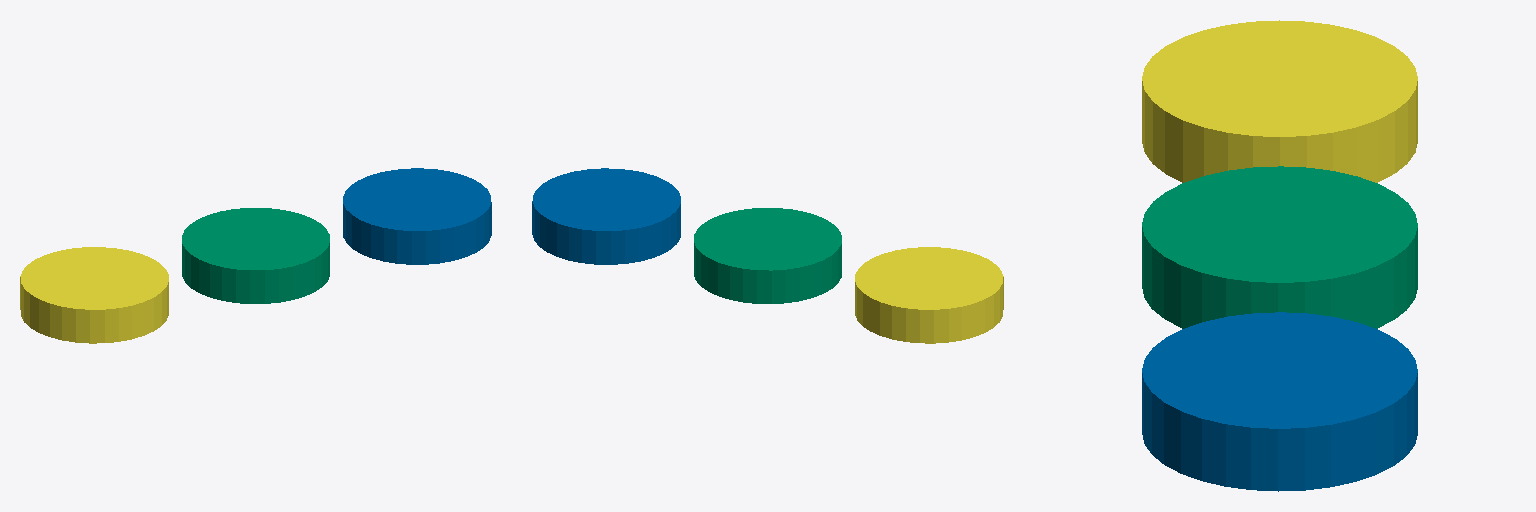
URDF robot description (avatar_gripper_3_model):
<?xml version="1.0" ?>
<!-- =================================================================================== -->
<!-- |    This document was autogenerated by xacro from [local-path]/avatar_ws/src/avatar_simulation/avatar_gripper_description/urdf/avatar_gripper_3f_example.xacro | -->
<!-- |    EDITING THIS FILE BY HAND IS NOT RECOMMENDED                                 | -->
<!-- =================================================================================== -->
<robot name="avatar_gripper_3_model">
  <link name="left_thumb_base">
    <inertial>
      <mass value="0.5"/>
      <inertia ixx="4E-5" ixy="0.0" ixz="0.0" iyy="4E-5" iyz="0.0" izz="4E-5"/>
    </inertial>
    <visual>
      <origin rpy="0 0   0" xyz="0 0 0"/>
      <geometry>
        <mesh filename="../meshes/right/thumb_base_extra.obj"/>
      </geometry>
      <material name="">
        <color rgba="0.9 0.9 0.9 1"/>
      </material>
    </visual>
    <collision>
      <origin rpy="0 0 0" xyz="0 0 -0.02"/>
      <geometry>
        <cylinder length="0.036" radius="0.01"/>
      </geometry>
    </collision>
    <collision>
      <origin xyz="0 0 -0.0020000000000000018"/>
      <geometry>
        <sphere radius="0.01"/>
      </geometry>
    </collision>
    <collision>
      <origin xyz="0 0 -0.038"/>
      <geometry>
        <sphere radius="0.01"/>
      </geometry>
    </collision>
  </link>
  <link name="left_thumb_knuckle">
    <inertial>
      <mass value="0.5"/>
      <inertia ixx="4E-5" ixy="0.0" ixz="0.0" iyy="4E-5" iyz="0.0" izz="4E-5"/>
    </inertial>
    <visual>
      <origin rpy="0 0 0" xyz="0 0 0"/>
      <geometry>
        <mesh filename="../meshes/right/thumb_knuckle.obj"/>
      </geometry>
      <material name="">
        <color rgba="0.9 0.9 0.9 1"/>
      </material>
    </visual>
    <collision>
      <origin rpy="0 1.5707963267948966 0" xyz="0.0235 0 0"/>
      <geometry>
        <cylinder length="0.047" radius="0.009"/>
      </geometry>
    </collision>
    <collision>
      <origin xyz="0.047 0 0"/>
      <geometry>
        <sphere radius="0.009"/>
      </geometry>
    </collision>
    <collision>
      <origin xyz="0.0 0 0"/>
      <geometry>
        <sphere radius="0.009"/>
      </geometry>
    </collision>
  </link>
  <joint name="left_thumb_knuckle_joint" type="revolute">
    <origin rpy="0 3.064 0" xyz="0 0 0"/>
    <parent link="left_thumb_base"/>
    <child link="left_thumb_knuckle"/>
    <axis xyz="0 1 0"/>
    <limit effort="1000" lower="-1.0" upper="0.4" velocity="2.0"/>
  </joint>
  <link name="left_thumb_finger">
    <inertial>
      <mass value="0.5"/>
      <inertia ixx="4E-5" ixy="0.0" ixz="0.0" iyy="4E-5" iyz="0.0" izz="4E-5"/>
    </inertial>
    <visual>
      <origin rpy="0 0 0" xyz="0 0 0"/>
      <geometry>
        <mesh filename="../meshes/right/thumb_fingertip.obj"/>
      </geometry>
      <material name="">
        <color rgba="0.9 0.9 0.9 1"/>
      </material>
    </visual>
    <collision>
      <origin rpy="0 1.5707963267948966 0" xyz="0.02 0 0"/>
      <geometry>
        <cylinder length="0.041" radius="0.008"/>
      </geometry>
    </collision>
    <collision>
      <origin xyz="0.0405 0 0"/>
      <geometry>
        <sphere radius="0.008"/>
      </geometry>
    </collision>
    <collision>
      <origin xyz="-0.0005000000000000004 0 0"/>
      <geometry>
        <sphere radius="0.008"/>
      </geometry>
    </collision>
  </link>
  <joint name="left_thumb_finger_joint" type="revolute">
    <!-- <origin xyz="0.04568 0 0.01106" rpy="0 0.57 0"/> -->
    <origin rpy="0 -0.12813170079773184 0" xyz="0.047 0 0"/>
    <parent link="left_thumb_knuckle"/>
    <child link="left_thumb_finger"/>
    <axis xyz="0 1 0"/>
    <limit effort="1000" lower="-0.8" upper="0" velocity="2.0"/>
  </joint>
  <link name="left_thumb_swivel_link">
    <inertial>
      <mass value="0.1"/>
      <inertia ixx="4E-5" ixy="0.0" ixz="0.0" iyy="4E-5" iyz="0.0" izz="4E-5"/>
    </inertial>
    <visual>
      <origin rpy="0 0 0" xyz="0 0 0"/>
      <geometry>
        <mesh filename="../meshes/right/thumb_swivel_link.obj"/>
      </geometry>
      <material name="">
        <color rgba="0.9 0.9 0.9 1"/>
      </material>
    </visual>
  </link>
  <joint name="left_thumb_swivel_joint" type="revolute">
    <origin rpy="0 0 0" xyz="0 0 0.0173"/>
    <parent link="left_index_base_connector"/>
    <child link="left_thumb_swivel_link"/>
    <axis xyz="0 0 1"/>
    <limit effort="1000" lower="0" upper="1.7" velocity="2.0"/>
  </joint>
  <joint name="left_thumb_base_swivel_joint" type="fixed">
    <origin rpy="0 -0.5235987755982988 0" xyz="-0.03742 0 0.05089"/>
    <parent link="left_thumb_swivel_link"/>
    <child link="left_thumb_base"/>
  </joint>
  <link name="left_index_base_connector">
    <inertial>
      <mass value="0.02"/>
      <inertia ixx="4E-5" ixy="0.0" ixz="0.0" iyy="4E-5" iyz="0.0" izz="4E-5"/>
    </inertial>
    <visual>
      <origin rpy="0 0 0" xyz="0 0 0"/>
      <geometry>
        <mesh filename="../meshes/right/index_base_connector.obj"/>
      </geometry>
      <material name="">
        <color rgba="0.9 0.9 0.9 1"/>
      </material>
    </visual>
    <collision>
      <origin rpy="0 0 0" xyz="-0.008 0 0.013"/>
      <geometry>
        <sphere radius="0.015"/>
      </geometry>
    </collision>
    <collision>
      <origin rpy="0 0 0" xyz="0.008 0 0.013"/>
      <geometry>
        <sphere radius="0.015"/>
      </geometry>
    </collision>
  </link>
  <link name="left_index_knuckle">
    <inertial>
      <mass value="0.5"/>
      <inertia ixx="4E-5" ixy="0.0" ixz="0.0" iyy="4E-5" iyz="0.0" izz="4E-5"/>
    </inertial>
    <visual>
      <origin rpy="0 0 0" xyz="0 0 0"/>
      <geometry>
        <mesh filename="../meshes/right/index_knuckle.obj"/>
      </geometry>
      <material name="">
        <color rgba="0.9 0.9 0.9 1"/>
      </material>
    </visual>
    <collision>
      <origin rpy="0 1.5707963267948966 0" xyz="0.02 0 0"/>
      <geometry>
        <cylinder length="0.04" radius="0.01"/>
      </geometry>
    </collision>
    <collision>
      <origin xyz="0.04 0 0"/>
      <geometry>
        <sphere radius="0.01"/>
      </geometry>
    </collision>
    <collision>
      <origin xyz="0.0 0 0"/>
      <geometry>
        <sphere radius="0.01"/>
      </geometry>
    </collision>
  </link>
  <joint name="left_index_knuckle_joint" type="revolute">
    <origin rpy="-2.3053 1.3087 -2.2008" xyz="-0.021564878 0.008545 -0.0024358"/>
    <parent link="left_index_base_connector"/>
    <child link="left_index_knuckle"/>
    <axis xyz="0 0 1"/>
    <limit effort="1000" lower="-0.8" upper="0" velocity="2.0"/>
  </joint>
  <link name="left_index_fingertip">
    <inertial>
      <mass value="0.5"/>
      <inertia ixx="4E-5" ixy="0.0" ixz="0.0" iyy="4E-5" iyz="0.0" izz="4E-5"/>
    </inertial>
    <visual>
      <origin rpy="0 0 0" xyz="0 0 0"/>
      <geometry>
        <mesh filename="../meshes/right/index_fingertip.obj"/>
      </geometry>
      <material name="">
        <color rgba="0.9 0.9 0.9 1"/>
      </material>
    </visual>
    <collision>
      <origin rpy="0 1.5707963267948966 0" xyz="0.013 0 0"/>
      <geometry>
        <cylinder length="0.026" radius="0.008"/>
      </geometry>
    </collision>
    <collision>
      <origin xyz="0.026 0 0"/>
      <geometry>
        <sphere radius="0.008"/>
      </geometry>
    </collision>
    <collision>
      <origin xyz="0.0 0 0"/>
      <geometry>
        <sphere radius="0.008"/>
      </geometry>
    </collision>
    <collision>
      <origin rpy="0 1.5707963267948966 -0.67" xyz="0.038 -0.009 0"/>
      <geometry>
        <cylinder length="0.023" radius="0.008"/>
      </geometry>
    </collision>
    <collision>
      <origin xyz="0.04701394915762976 -0.016141338850920436 0"/>
      <geometry>
        <sphere radius="0.008"/>
      </geometry>
    </collision>
    <collision>
      <origin xyz="0.028986050842370235 -0.001858661149079563 0"/>
      <geometry>
        <sphere radius="0.008"/>
      </geometry>
    </collision>
  </link>
  <joint name="left_index_fingertip_joint" type="revolute">
    <origin rpy="0 0 0.313" xyz="0.04499 0 0"/>
    <parent link="left_index_knuckle"/>
    <child link="left_index_fingertip"/>
    <axis xyz="0 0 1"/>
    <limit effort="1000" lower="-0.8" upper="0" velocity="2.0"/>
  </joint>
  <link name="left_middle_knuckle">
    <inertial>
      <mass value="0.5"/>
      <inertia ixx="4E-5" ixy="0.0" ixz="0.0" iyy="4E-5" iyz="0.0" izz="4E-5"/>
    </inertial>
    <visual>
      <origin rpy="0 0 0" xyz="0 0 0"/>
      <geometry>
        <mesh filename="../meshes/right/index_knuckle.obj"/>
      </geometry>
      <material name="">
        <color rgba="0.9 0.9 0.9 1"/>
      </material>
    </visual>
    <collision>
      <origin rpy="0 1.5707963267948966 0" xyz="0.02 0 0"/>
      <geometry>
        <cylinder length="0.04" radius="0.01"/>
      </geometry>
    </collision>
    <collision>
      <origin xyz="0.04 0 0"/>
      <geometry>
        <sphere radius="0.01"/>
      </geometry>
    </collision>
    <collision>
      <origin xyz="0.0 0 0"/>
      <geometry>
        <sphere radius="0.01"/>
      </geometry>
    </collision>
  </link>
  <joint name="left_middle_knuckle_joint" type="revolute">
    <origin rpy="-0.8363 1.3087 -0.9408" xyz="0.02156 0.008545 -0.0024358"/>
    <parent link="left_index_base_connector"/>
    <child link="left_middle_knuckle"/>
    <axis xyz="0 0 1"/>
    <limit effort="1000" lower="-0.8" upper="0" velocity="2.0"/>
  </joint>
  <link name="left_middle_fingertip">
    <inertial>
      <mass value="0.5"/>
      <inertia ixx="4E-5" ixy="0.0" ixz="0.0" iyy="4E-5" iyz="0.0" izz="4E-5"/>
    </inertial>
    <visual>
      <origin rpy="0 0 0" xyz="0 0 0"/>
      <geometry>
        <mesh filename="../meshes/right/index_fingertip.obj"/>
      </geometry>
      <material name="">
        <color rgba="0.9 0.9 0.9 1"/>
      </material>
    </visual>
    <collision>
      <origin rpy="0 1.5707963267948966 0" xyz="0.013 0 0"/>
      <geometry>
        <cylinder length="0.026" radius="0.008"/>
      </geometry>
    </collision>
    <collision>
      <origin xyz="0.026 0 0"/>
      <geometry>
        <sphere radius="0.008"/>
      </geometry>
    </collision>
    <collision>
      <origin xyz="0.0 0 0"/>
      <geometry>
        <sphere radius="0.008"/>
      </geometry>
    </collision>
    <collision>
      <origin rpy="0 1.5707963267948966 -0.67" xyz="0.038 -0.009 0"/>
      <geometry>
        <cylinder length="0.023" radius="0.008"/>
      </geometry>
    </collision>
    <collision>
      <origin xyz="0.04701394915762976 -0.016141338850920436 0"/>
      <geometry>
        <sphere radius="0.008"/>
      </geometry>
    </collision>
    <collision>
      <origin xyz="0.028986050842370235 -0.001858661149079563 0"/>
      <geometry>
        <sphere radius="0.008"/>
      </geometry>
    </collision>
  </link>
  <joint name="left_middle_fingertip_joint" type="revolute">
    <origin rpy="0 0 0.313" xyz="0.04499 0 0"/>
    <parent link="left_middle_knuckle"/>
    <child link="left_middle_fingertip"/>
    <axis xyz="0 0 1"/>
    <limit effort="1000" lower="-0.8" upper="0" velocity="2.0"/>
  </joint>
  <link name="left_gripper_base">
    <inertial>
      <mass value="2.0"/>
      <inertia ixx="7.11E-3" ixy="0.0" ixz="0.0" iyy="7.11E-3" iyz="0.0" izz="7.11E-3"/>
    </inertial>
    <visual>
      <origin rpy="0 0 0" xyz="0 0 0"/>
      <geometry>
        <mesh filename="../meshes/right/gripper_base.obj"/>
      </geometry>
      <material name="">
        <color rgba="0.9 0.9 0.7 1"/>
      </material>
    </visual>
    <!-- <collision>
        <origin xyz="0 0 -0.03" rpy="0 0 0"/>
        <geometry>
          <box size="0.1 0.1 0.06"/>
        </geometry>
      </collision> -->
  </link>
  <joint name="left_gripper_base_joint" type="fixed">
    <origin rpy="1.57 0 0" xyz="0.00736 0.139 -0.066017"/>
    <parent link="left_gripper_base"/>
    <child link="left_index_base_connector"/>
  </joint>
  <link name="left_thumb_flex_motor">
    <inertial>
      <mass value="0.25"/>
      <inertia ixx="1.463E-04" ixy="0" ixz="0" iyy="1.463E-04" iyz="0" izz="1.463E-04"/>
    </inertial>
    <visual>
      <origin rpy="0 0 0" xyz="0 0 0"/>
      <geometry>
        <cylinder length="0.01" radius="0.02"/>
      </geometry>
    </visual>
  </link>
  <joint name="left_thumb_flex_motor_joint" type="revolute">
    <origin rpy="0 0 0" xyz="-0.05 0.0 0.0"/>
    <parent link="left_gripper_base"/>
    <child link="left_thumb_flex_motor"/>
    <axis xyz="0 0 1"/>
    <limit effort="1000" lower="-2.3" upper="-0.08" velocity="2.0"/>
  </joint>
  <link name="left_thumb_swivel_motor">
    <inertial>
      <mass value="0.25"/>
      <inertia ixx="1.463E-04" ixy="0" ixz="0" iyy="1.463E-04" iyz="0" izz="1.463E-04"/>
    </inertial>
    <visual>
      <origin rpy="0 0 0" xyz="0 0 0"/>
      <geometry>
        <cylinder length="0.01" radius="0.02"/>
      </geometry>
    </visual>
  </link>
  <joint name="left_thumb_swivel_motor_joint" type="revolute">
    <origin rpy="0 0 0" xyz="-0.1 0.0 0.0"/>
    <parent link="left_gripper_base"/>
    <child link="left_thumb_swivel_motor"/>
    <axis xyz="0 0 1"/>
    <limit effort="1000" lower="-2.3" upper="-0.05" velocity="2.0"/>
  </joint>
  <link name="left_index_flex_motor">
    <inertial>
      <mass value="0.25"/>
      <inertia ixx="1.463E-04" ixy="0" ixz="0" iyy="1.463E-04" iyz="0" izz="1.463E-04"/>
    </inertial>
    <visual>
      <origin rpy="0 0 0" xyz="0 0 0"/>
      <geometry>
        <cylinder length="0.01" radius="0.02"/>
      </geometry>
    </visual>
  </link>
  <joint name="left_index_flex_motor_joint" type="revolute">
    <origin rpy="0 0 0" xyz="0.0 0.0 0.0"/>
    <parent link="left_gripper_base"/>
    <child link="left_index_flex_motor"/>
    <axis xyz="0 0 1"/>
    <limit effort="1000" lower="-2.3" upper="-0.08" velocity="2.0"/>
  </joint>
  <transmission name="left_thumb_knuckle_joint_transmission">
    <type>transmission_interface/SimpleTransmission</type>
    <joint name="left_thumb_knuckle_joint">
      <hardwareInterface>PositionJointInterface</hardwareInterface>
    </joint>
    <actuator name="left_thumb_knuckle_joint_actuator">
      <hardwareInterface>PositionJointInterface</hardwareInterface>
      <mechanicalReduction>1</mechanicalReduction>
    </actuator>
  </transmission>
  <transmission name="left_thumb_finger_joint_transmission">
    <type>transmission_interface/SimpleTransmission</type>
    <joint name="left_thumb_finger_joint">
      <hardwareInterface>PositionJointInterface</hardwareInterface>
    </joint>
    <actuator name="left_thumb_finger_joint_actuator">
      <hardwareInterface>PositionJointInterface</hardwareInterface>
      <mechanicalReduction>1</mechanicalReduction>
    </actuator>
  </transmission>
  <transmission name="left_thumb_swivel_joint_transmission">
    <type>transmission_interface/SimpleTransmission</type>
    <joint name="left_thumb_swivel_joint">
      <hardwareInterface>PositionJointInterface</hardwareInterface>
    </joint>
    <actuator name="left_thumb_swivel_joint_actuator">
      <hardwareInterface>PositionJointInterface</hardwareInterface>
      <mechanicalReduction>1</mechanicalReduction>
    </actuator>
  </transmission>
  <transmission name="left_index_knuckle_joint_transmission">
    <type>transmission_interface/SimpleTransmission</type>
    <joint name="left_index_knuckle_joint">
      <hardwareInterface>PositionJointInterface</hardwareInterface>
    </joint>
    <actuator name="left_index_knuckle_joint_actuator">
      <hardwareInterface>PositionJointInterface</hardwareInterface>
      <mechanicalReduction>1</mechanicalReduction>
    </actuator>
  </transmission>
  <transmission name="left_index_fingertip_joint_transmission">
    <type>transmission_interface/SimpleTransmission</type>
    <joint name="left_index_fingertip_joint">
      <hardwareInterface>PositionJointInterface</hardwareInterface>
    </joint>
    <actuator name="left_index_fingertip_joint_actuator">
      <hardwareInterface>PositionJointInterface</hardwareInterface>
      <mechanicalReduction>1</mechanicalReduction>
    </actuator>
  </transmission>
  <transmission name="left_middle_knuckle_joint_transmission">
    <type>transmission_interface/SimpleTransmission</type>
    <joint name="left_middle_knuckle_joint">
      <hardwareInterface>PositionJointInterface</hardwareInterface>
    </joint>
    <actuator name="left_middle_knuckle_joint_actuator">
      <hardwareInterface>PositionJointInterface</hardwareInterface>
      <mechanicalReduction>1</mechanicalReduction>
    </actuator>
  </transmission>
  <transmission name="left_middle_fingertip_joint_transmission">
    <type>transmission_interface/SimpleTransmission</type>
    <joint name="left_middle_fingertip_joint">
      <hardwareInterface>PositionJointInterface</hardwareInterface>
    </joint>
    <actuator name="left_middle_fingertip_joint_actuator">
      <hardwareInterface>PositionJointInterface</hardwareInterface>
      <mechanicalReduction>1</mechanicalReduction>
    </actuator>
  </transmission>
  <transmission name="left_thumb_flex_motor_joint_transmission">
    <type>transmission_interface/SimpleTransmission</type>
    <joint name="left_thumb_flex_motor_joint">
      <hardwareInterface>PositionJointInterface</hardwareInterface>
    </joint>
    <actuator name="left_thumb_flex_motor_joint_actuator">
      <hardwareInterface>PositionJointInterface</hardwareInterface>
      <mechanicalReduction>1</mechanicalReduction>
    </actuator>
  </transmission>
  <transmission name="left_thumb_swivel_motor_joint_transmission">
    <type>transmission_interface/SimpleTransmission</type>
    <joint name="left_thumb_swivel_motor_joint">
      <hardwareInterface>PositionJointInterface</hardwareInterface>
    </joint>
    <actuator name="left_thumb_swivel_motor_joint_actuator">
      <hardwareInterface>PositionJointInterface</hardwareInterface>
      <mechanicalReduction>1</mechanicalReduction>
    </actuator>
  </transmission>
  <transmission name="left_index_flex_motor_joint_transmission">
    <type>transmission_interface/SimpleTransmission</type>
    <joint name="left_index_flex_motor_joint">
      <hardwareInterface>PositionJointInterface</hardwareInterface>
    </joint>
    <actuator name="left_index_flex_motor_joint_actuator">
      <hardwareInterface>PositionJointInterface</hardwareInterface>
      <mechanicalReduction>1</mechanicalReduction>
    </actuator>
  </transmission>
</robot>

--- Render facts (derived) ---
3 views of the same robot in one strip: view 1: azimuth 30°, elevation 25°; view 2: azimuth 150°, elevation 25°; view 3: azimuth 270°, elevation 25° (orthographic).
Robot: avatar_gripper_3_model — 13 links, 12 joints (10 revolute, 2 fixed); root link left_gripper_base; default pose: all joints at 0 but 3 set to mid-range because 0 is outside their limits (left_thumb_flex_motor_joint = -1.19, left_thumb_swivel_motor_joint = -1.18, left_index_flex_motor_joint = -1.19).
Visible links, largest first — view 1: left_index_flex_motor, left_thumb_swivel_motor, left_thumb_flex_motor; view 2: left_thumb_swivel_motor, left_index_flex_motor, left_thumb_flex_motor; view 3: left_index_flex_motor, left_thumb_swivel_motor, left_thumb_flex_motor.
Boxes of the visible links, x1,y1,x2,y2 form: left_index_flex_motor: (343,168,491,264); left_thumb_swivel_motor: (20,247,168,343); left_thumb_flex_motor: (182,208,329,303); left_thumb_swivel_motor: (855,247,1003,343); left_index_flex_motor: (532,168,680,264); left_thumb_flex_motor: (694,208,841,303); left_index_flex_motor: (1142,312,1417,491); left_thumb_swivel_motor: (1142,20,1417,182); left_thumb_flex_motor: (1142,166,1417,328).
Bounding box of the posed robot: 0.14 × 0.04 × 0.01 m (x, y, z).
0 mesh visuals loaded from 8 distinct referenced files (none loaded); not drawn: 10 (reference not matched to a file when rendering).